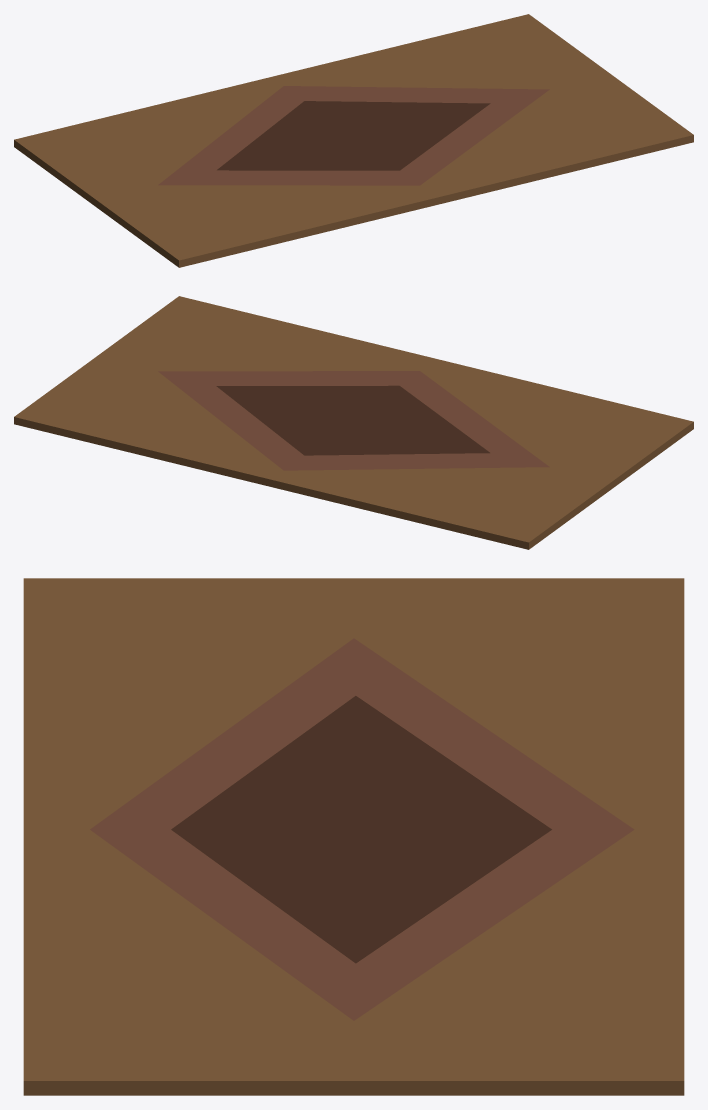
The model's file is Carpet_3B.fbx.
3 views of the same model, one above another, from view 1: azimuth 30°, elevation 25°; view 2: azimuth 150°, elevation 25°; view 3: azimuth 270°, elevation 25° (orthographic). The views are drawn at different scales.
Visible parts, largest first — view 1: pPlane52; view 2: pPlane52; view 3: pPlane52.
Part boxes in pixels (bbox=[...]): pPlane52: bbox=[14, 14, 693, 267]; pPlane52: bbox=[14, 296, 693, 549]; pPlane52: bbox=[23, 578, 684, 1095].
Size of the model in its own units: 2.25 by 0.0308 by 1.25.
Materials: 1 (1 with a texture image).
